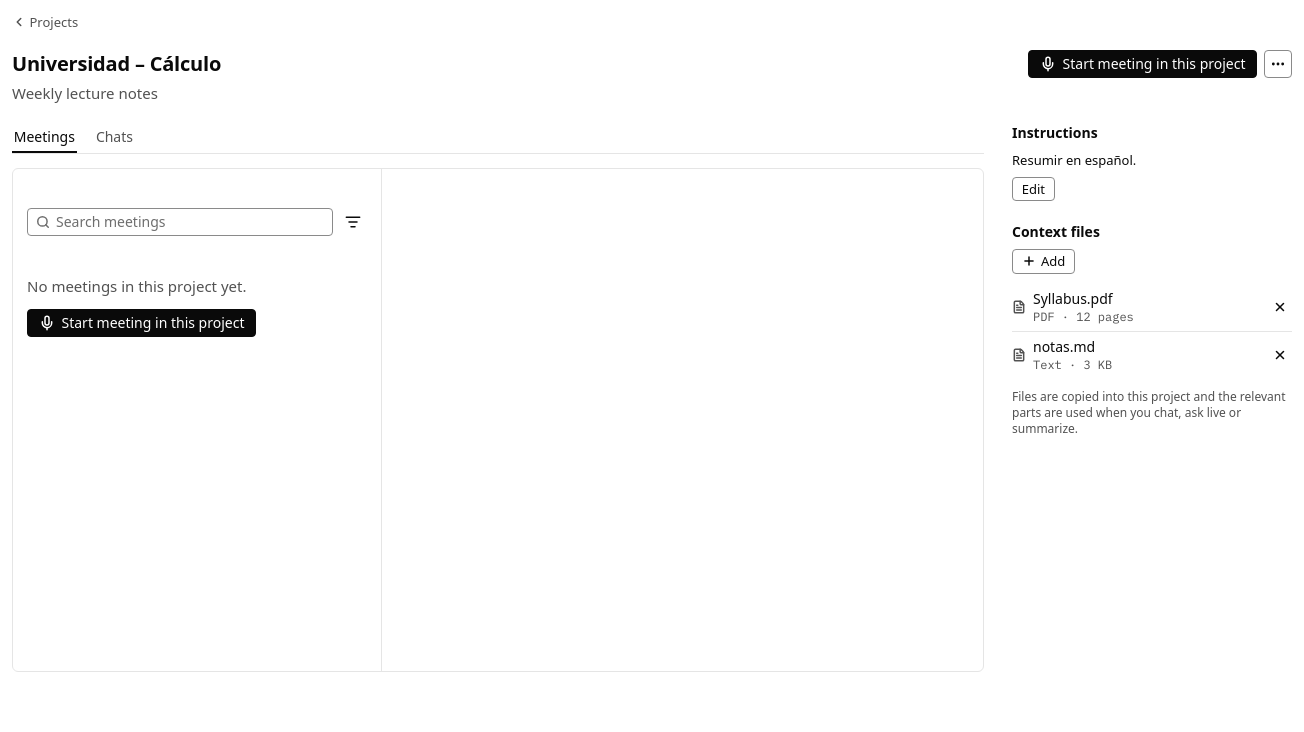
the header › renames in place: Enter saves, and the heading shows the new name
This screenshot has width=1304, height=732.
Click the button named "Project actions".
click(1278, 64)  # box left=1264, top=50, right=1292, bottom=78
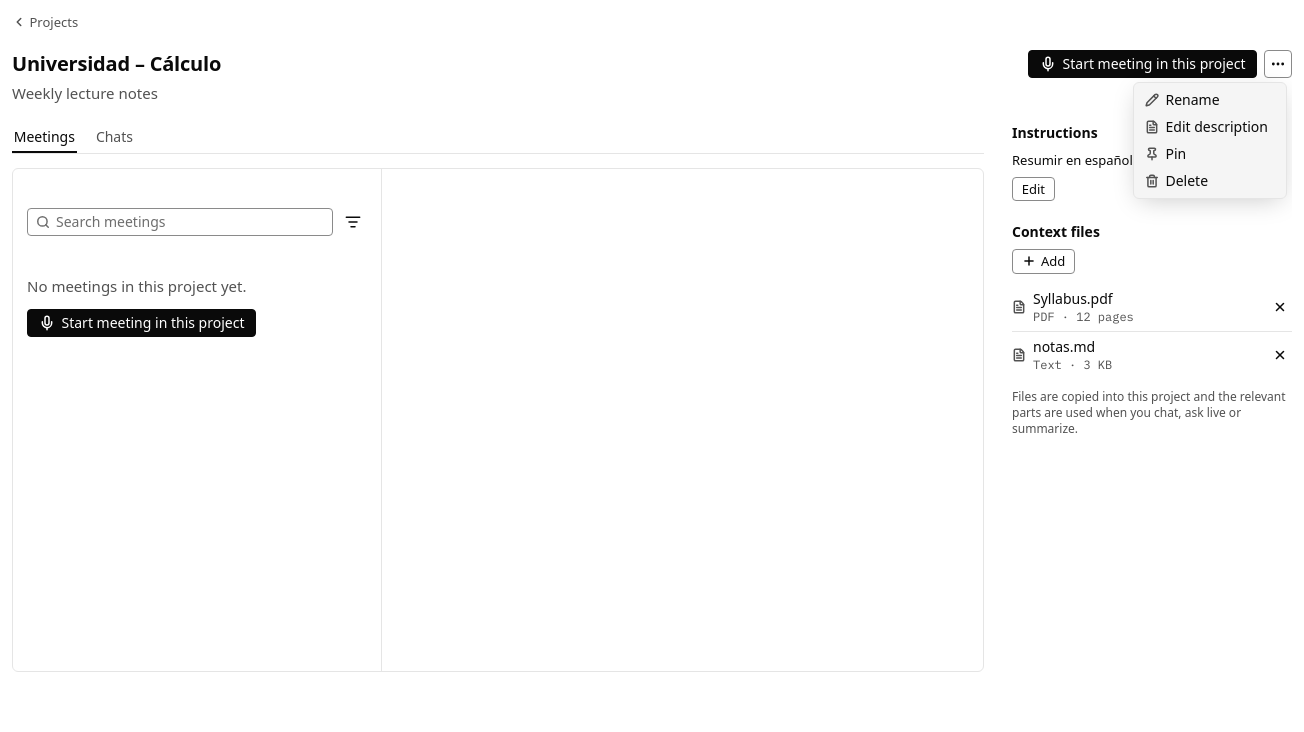
Click the menu item "Rename".
click(1182, 100)  # box left=1144, top=90, right=1220, bottom=109
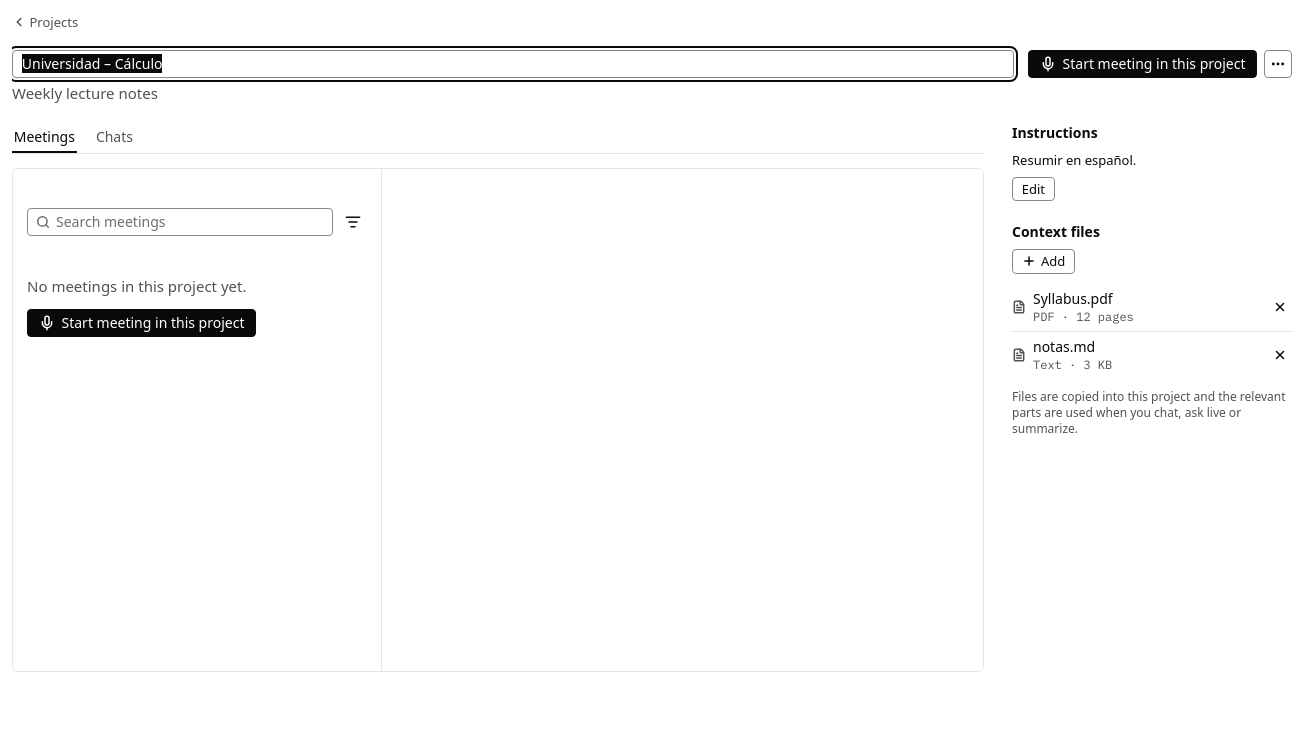
Now the field named "Name" holds "Universidad – Cálculo"
Replace the text in the field named "Name" with "Cálculo II" at (513, 64), box left=12, top=50, right=1014, bottom=78
Then press Enter
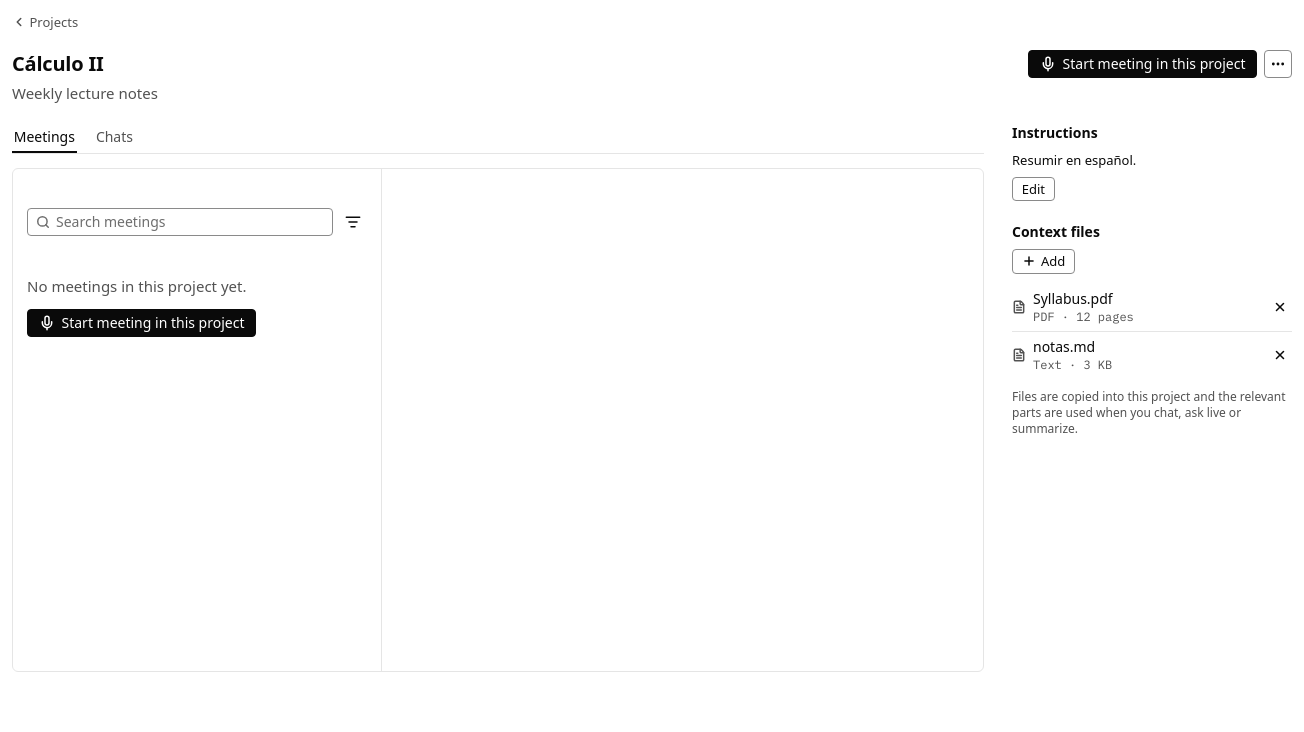
Now the heading "Cálculo II" is shown, box left=12, top=50, right=104, bottom=76
Now the field labelled "Name" is gone
